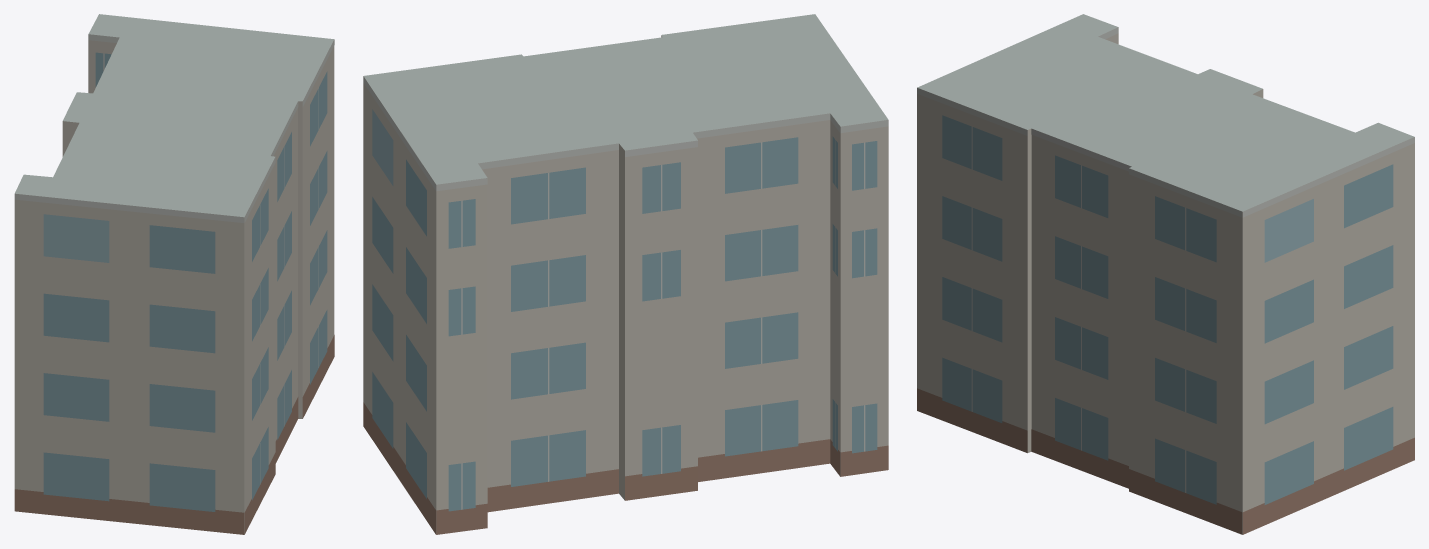
File: survey-upis-32725087.glb
3 views of the same model, side by side, from view 1: azimuth 30°, elevation 25°; view 2: azimuth 150°, elevation 25°; view 3: azimuth 270°, elevation 25° (orthographic). The views are drawn at different scales.
Parts seen in each view (by area): view 1: survey-upis-32725087.tmp; view 2: survey-upis-32725087.tmp; view 3: survey-upis-32725087.tmp.
Boxes of the visible parts, x1,y1,x2,y2 form: survey-upis-32725087.tmp: (14, 14, 334, 534); survey-upis-32725087.tmp: (363, 14, 888, 534); survey-upis-32725087.tmp: (917, 14, 1414, 534).
Bounding box in the file's own units: 17.06 × 13 × 18.15.
